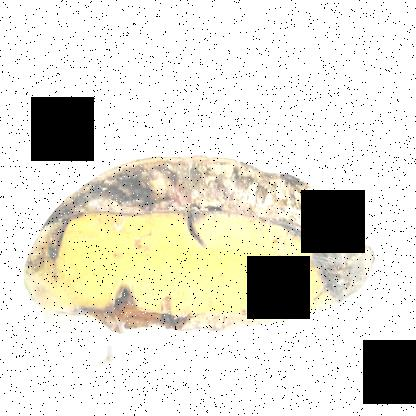rotten: (39, 131, 394, 348)
